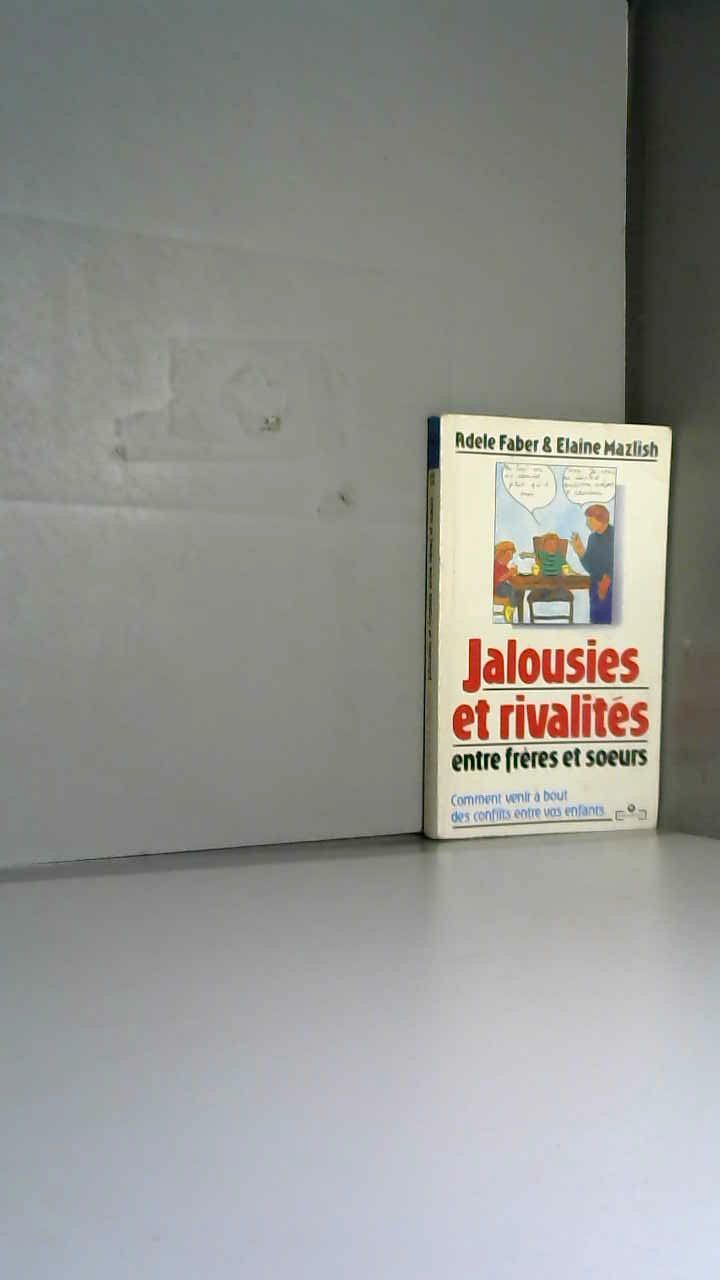book: (390, 390, 716, 899)
